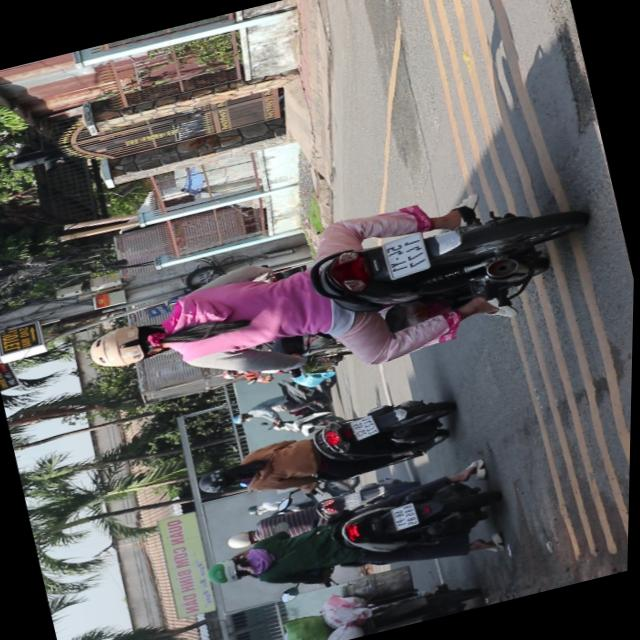helmet: (81, 316, 169, 376), (201, 552, 253, 588), (195, 462, 244, 496), (224, 528, 258, 552)
licenseplate: (66, 160, 604, 435), (193, 463, 508, 617), (187, 386, 464, 516), (235, 573, 483, 640), (217, 472, 418, 554)
nohelmet: (380, 232, 431, 279), (390, 503, 419, 531), (350, 415, 381, 441), (344, 491, 364, 509)
